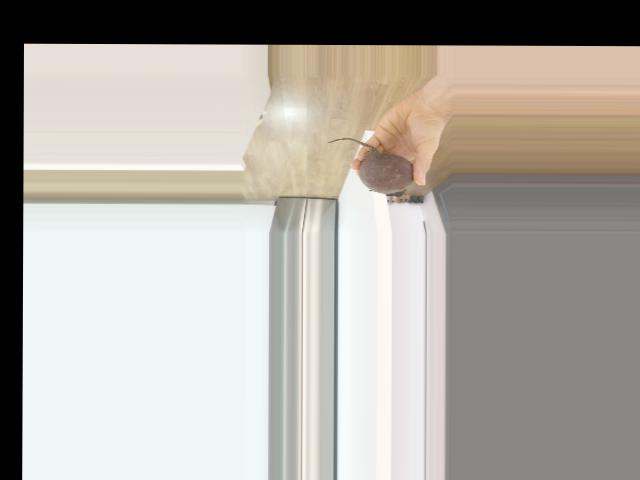beet: (327, 137, 413, 196)
